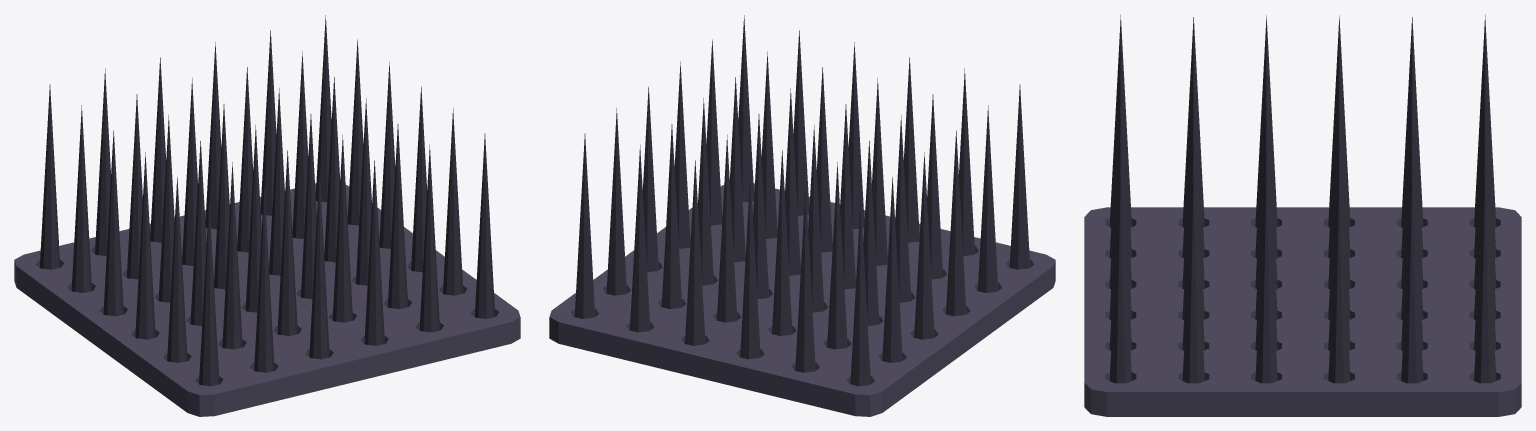
Rendered from Dungeon_Trap_spikes.glb.
The picture shows the model from 3 angles, left to right: view 1: azimuth 30°, elevation 25°; view 2: azimuth 150°, elevation 25°; view 3: azimuth 270°, elevation 25°; orthographic projection. The views are drawn at different scales.
Visible parts, largest first — view 1: Trap_spikes; view 2: Trap_spikes; view 3: Trap_spikes.
Part boxes in pixels (bbox=[...]): Trap_spikes: bbox=[14, 15, 520, 416]; Trap_spikes: bbox=[549, 15, 1055, 416]; Trap_spikes: bbox=[1084, 14, 1521, 416].
Size of the model in its own units: 1.99 by 1.17 by 1.99.
